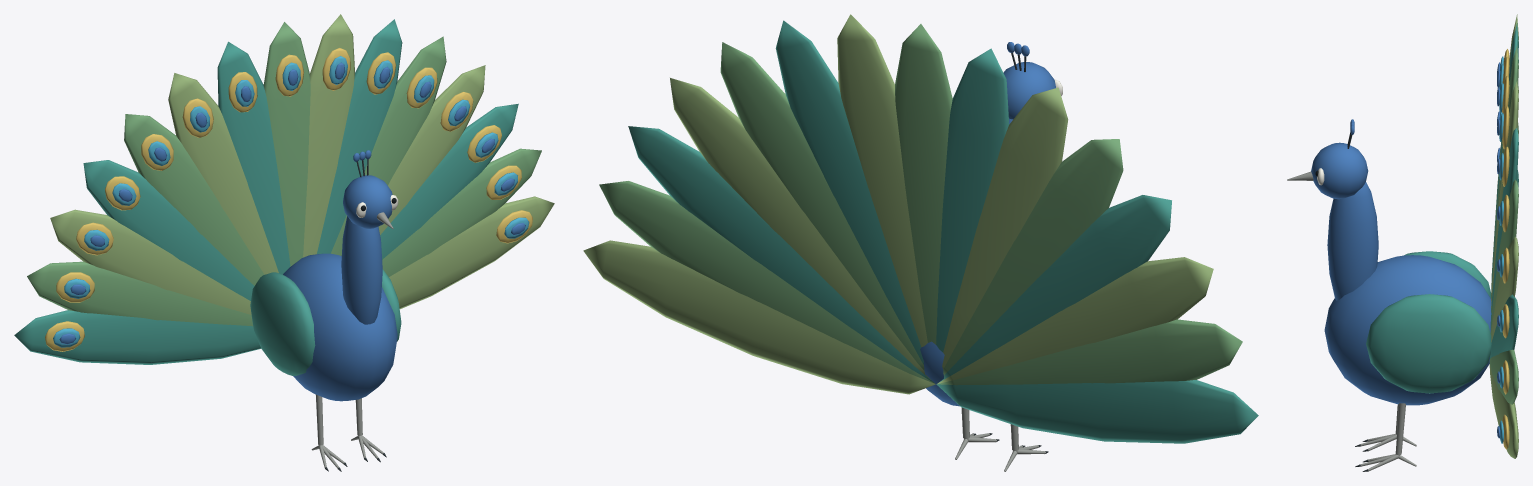
The model's file is bird_peacock.glb.
3 renders of one model, left to right at view 1: azimuth 30°, elevation 25°; view 2: azimuth 150°, elevation 25°; view 3: azimuth 270°, elevation 25°, orthographic. The views are drawn at different scales.
Parts seen in each view (by area): view 1: Peacock_Blue_Body, Peacock_Fan_Feather_00, Peacock_Fan_Feather_06, Peacock_Fan_Feather_05, Peacock_Fan_Feather_07, Peacock_Fan_Feather_04, Peacock_Fan_Feather_02, Peacock_Fan_Feather_03, Peacock_Fan_Feather_01, Peacock_Fan_Feather_08, Peacock_Fan_Feather_14, Peacock_Fan_Feather_09 (+18 smaller); view 2: Peacock_Fan_Feather_14, Peacock_Fan_Feather_00, Peacock_Fan_Feather_10, Peacock_Fan_Feather_11, Peacock_Fan_Feather_12, Peacock_Fan_Feather_09, Peacock_Fan_Feather_13, Peacock_Fan_Feather_08, Peacock_Fan_Feather_07, Peacock_Fan_Feather_06, Peacock_Fan_Feather_05, Peacock_Fan_Feather_04 (+5 smaller); view 3: Peacock_Blue_Body, Peacock_Folded_Wing_1, Peacock_Long_Blue_Neck, Peacock_Head, Peacock_Fan_Feather_14, Peacock_Fan_Feather_11, Peacock_Fan_Feather_10, Peacock_Fan_Feather_12, Peacock_Fan_Feather_13, Peacock_Fan_Feather_09, Peacock_Folded_Wing_-1, Peacock_Fan_Feather_08 (+3 smaller).
Part boxes in pixels (box(x1,y1,x2,y2)): Peacock_Blue_Body: box(283, 253, 397, 401); Peacock_Fan_Feather_00: box(14, 310, 260, 364); Peacock_Fan_Feather_06: box(217, 41, 290, 274); Peacock_Fan_Feather_05: box(168, 73, 278, 274); Peacock_Fan_Feather_07: box(263, 22, 310, 266); Peacock_Fan_Feather_04: box(124, 114, 264, 285); Peacock_Fan_Feather_02: box(50, 209, 251, 314); Peacock_Fan_Feather_03: box(83, 160, 254, 300); Peacock_Fan_Feather_01: box(27, 261, 252, 326); Peacock_Fan_Feather_08: box(303, 14, 354, 257); Peacock_Fan_Feather_14: box(389, 196, 554, 309); Peacock_Fan_Feather_09: box(317, 19, 402, 254); Peacock_Fan_Feather_14: box(583, 240, 935, 394); Peacock_Fan_Feather_00: box(936, 380, 1258, 443); Peacock_Fan_Feather_10: box(720, 42, 924, 370); Peacock_Fan_Feather_11: box(670, 78, 932, 381); Peacock_Fan_Feather_12: box(628, 126, 933, 382); Peacock_Fan_Feather_09: box(775, 20, 923, 364); Peacock_Fan_Feather_13: box(599, 181, 934, 383); Peacock_Fan_Feather_08: box(837, 14, 927, 347); Peacock_Fan_Feather_07: box(895, 24, 952, 344); Peacock_Fan_Feather_06: box(936, 48, 1009, 352); Peacock_Fan_Feather_05: box(942, 87, 1068, 369); Peacock_Fan_Feather_04: box(943, 139, 1123, 375); Peacock_Blue_Body: box(1324, 255, 1491, 405); Peacock_Folded_Wing_1: box(1366, 294, 1491, 393); Peacock_Long_Blue_Neck: box(1327, 182, 1378, 300); Peacock_Head: box(1311, 142, 1368, 199); Peacock_Fan_Feather_14: box(1489, 364, 1518, 458); Peacock_Fan_Feather_11: box(1491, 236, 1518, 342); Peacock_Fan_Feather_10: box(1490, 179, 1518, 334); Peacock_Fan_Feather_12: box(1490, 294, 1518, 358); Peacock_Fan_Feather_13: box(1489, 349, 1518, 404); Peacock_Fan_Feather_09: box(1490, 128, 1518, 329); Peacock_Folded_Wing_-1: box(1404, 251, 1490, 298); Peacock_Fan_Feather_08: box(1491, 81, 1518, 312).
Size of the model in its own units: 1.13 by 0.7786 by 0.3972.
